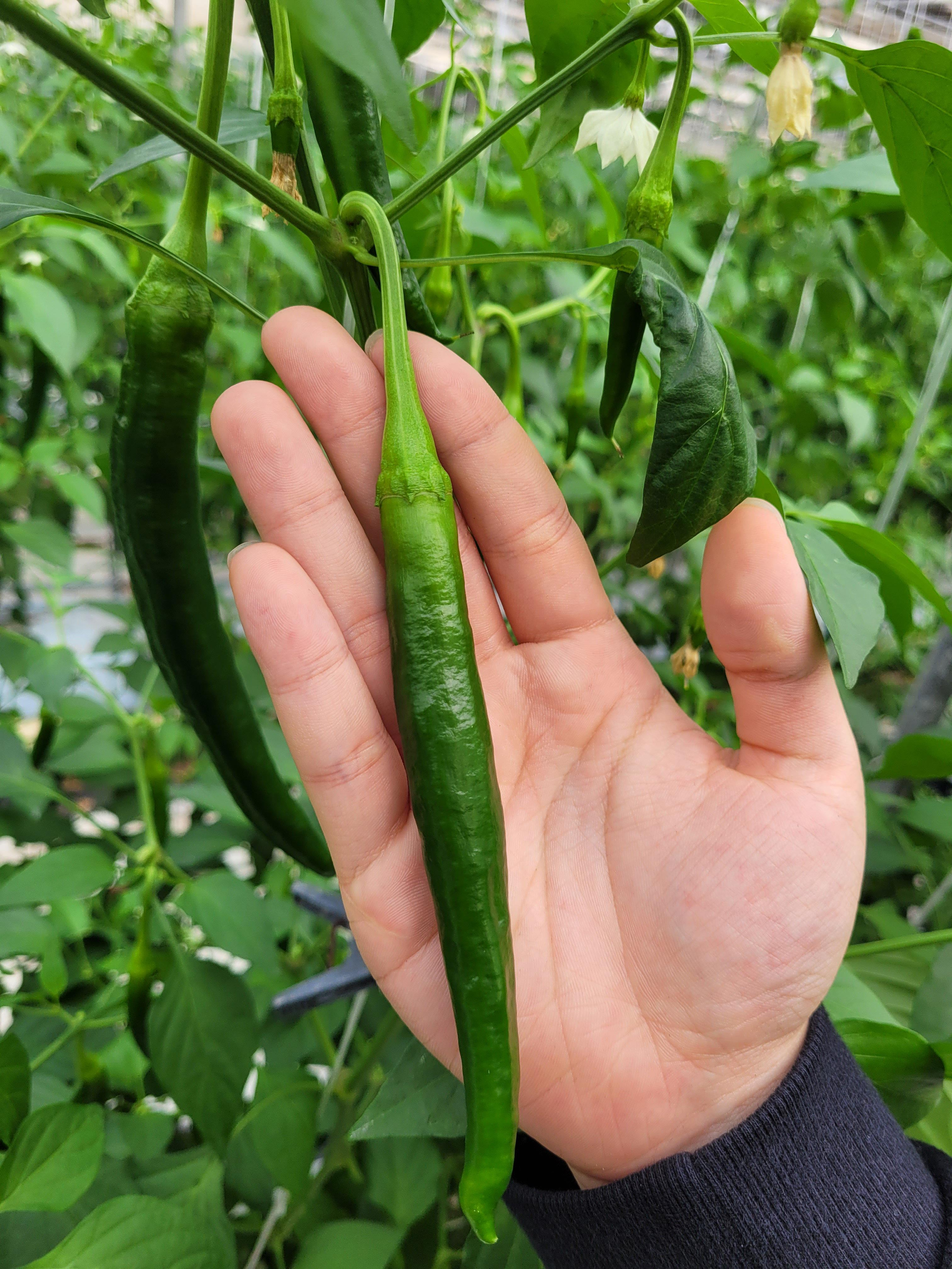Buah Cabai Sehat: (354, 447, 532, 1247)
